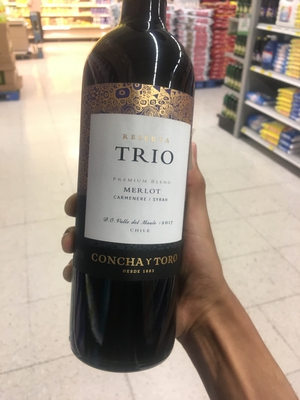trio merlot: (65, 9, 209, 355)
